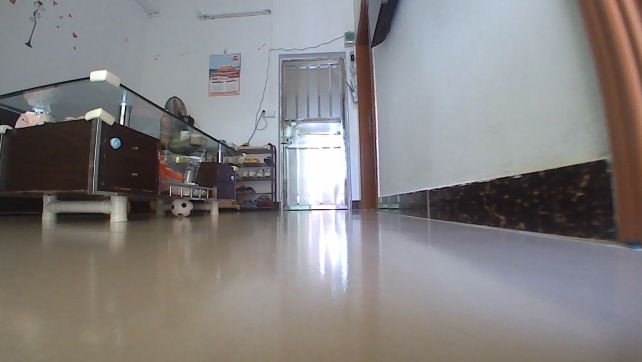door_anno: (275, 54, 350, 214)
tea_table: (0, 68, 245, 225)
wire: (247, 46, 272, 145), (272, 34, 344, 53)
